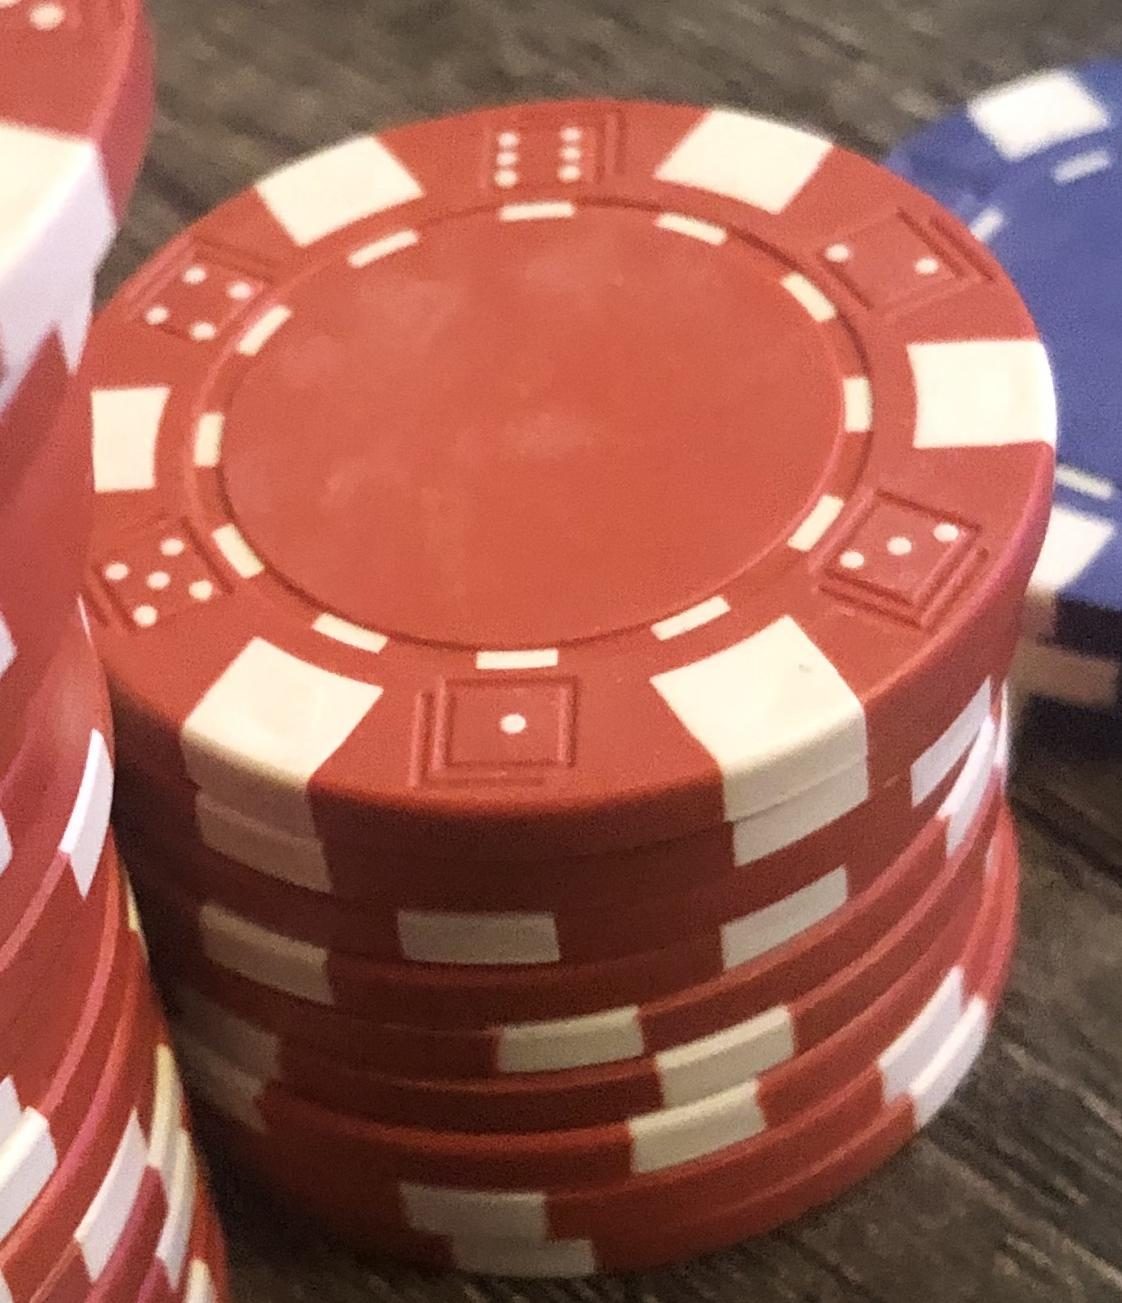Chip: (1, 1, 1122, 1303)
